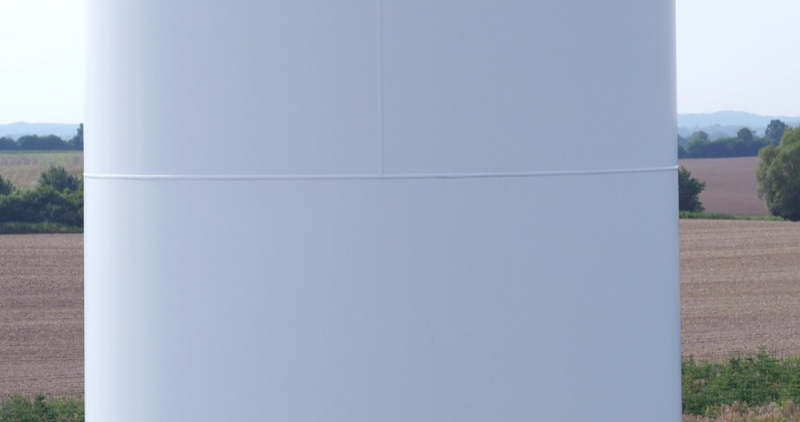weldseam: (80, 162, 677, 186), (368, 1, 391, 191)
